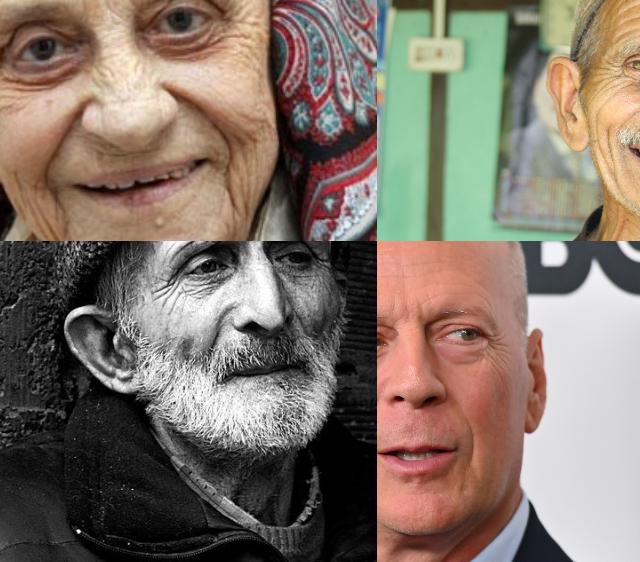bunny_line: (87, 63, 117, 93), (129, 57, 159, 83)
crows_feet: (220, 0, 252, 46), (156, 268, 182, 308), (486, 335, 508, 376), (598, 57, 624, 89), (312, 248, 328, 276), (0, 60, 8, 105)
forehead: (403, 255, 442, 279), (631, 7, 640, 30)
frown_line: (389, 300, 426, 323), (114, 0, 137, 14)
gummy_smile: (178, 84, 235, 136), (43, 108, 81, 168), (464, 417, 484, 472), (202, 312, 224, 352)
masseter: (11, 173, 41, 226), (241, 108, 275, 140), (604, 126, 622, 166), (590, 110, 606, 152)
sad_smile: (216, 162, 246, 228), (43, 184, 73, 234)
